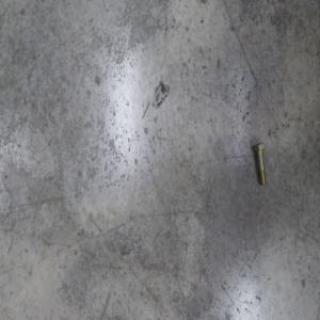Bolttrack_idkeyframe: (251, 140, 265, 186)
